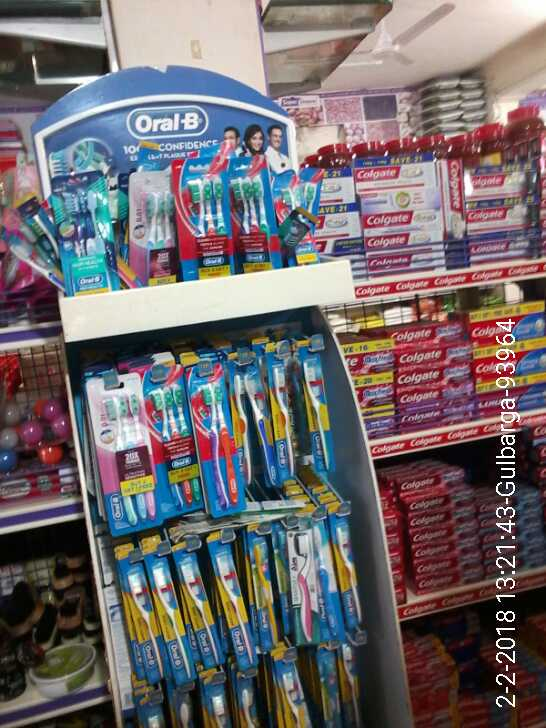oralb: (86, 380, 159, 533), (142, 374, 204, 528), (45, 173, 119, 302), (180, 377, 246, 517), (169, 553, 221, 690), (143, 554, 197, 679), (124, 171, 182, 287), (221, 161, 278, 274), (231, 365, 282, 491), (214, 539, 256, 678), (183, 166, 234, 278), (119, 570, 165, 687), (296, 350, 334, 476), (282, 527, 322, 645), (330, 520, 368, 640), (246, 538, 280, 653), (270, 357, 299, 484)
